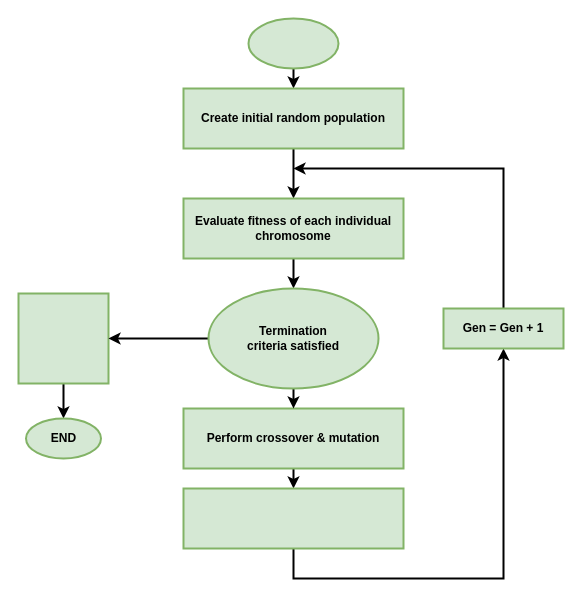
Image size: 581x604. Some labels were removed from this diagram. Each missing label, with the centre of its shape:
"Designate results" goes at point (63, 338).
"Gen = 0" goes at point (293, 43).
"Perform reproduction" goes at point (293, 518).
